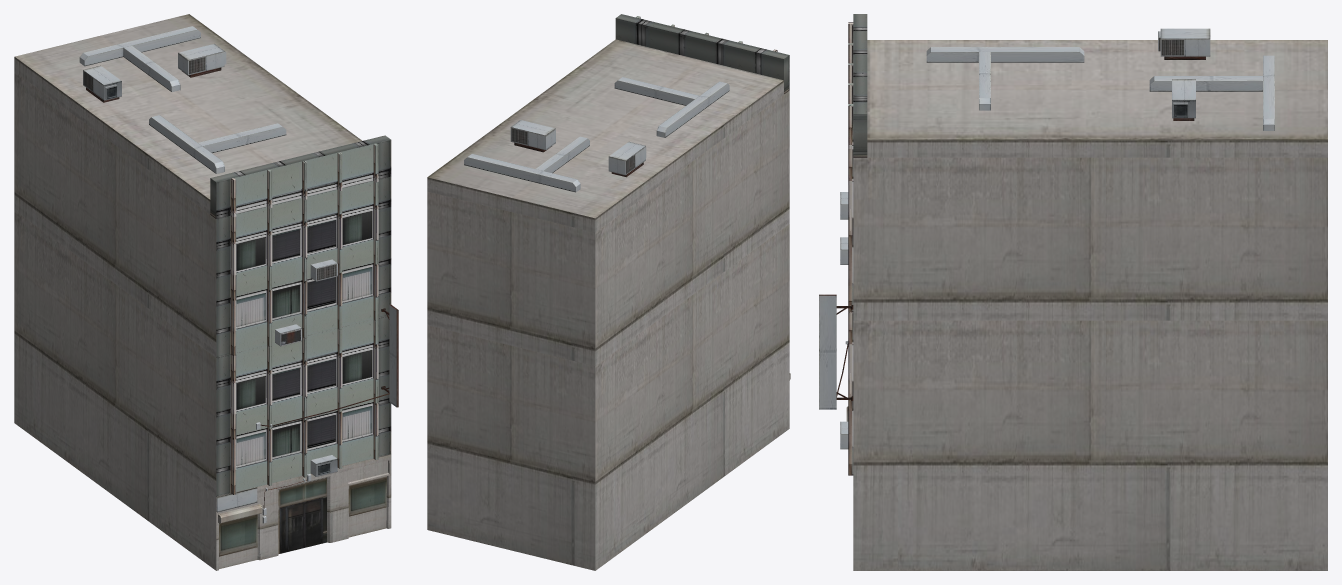
Rendered from BuildingNarrowOffice.obj.
The picture shows the model from 3 angles, left to right: view 1: azimuth 30°, elevation 25°; view 2: azimuth 150°, elevation 25°; view 3: azimuth 270°, elevation 25°; orthographic projection. The views are drawn at different scales.
Visible parts, largest first — view 1: Downtown_ModernOffice_2_Downtown_Facade_FLR_8_0, Downtown_ModernOffice_2_Downtown_Facade_FLR_6_0; view 2: Downtown_ModernOffice_2_Downtown_Facade_FLR_8_0, Downtown_ModernOffice_2_Downtown_Facade_FLR_6_0; view 3: Downtown_ModernOffice_2_Downtown_Facade_FLR_8_0, Downtown_ModernOffice_2_Downtown_Facade_FLR_6_0.
Boxes of the visible parts, x1,y1,x2,y2 form: Downtown_ModernOffice_2_Downtown_Facade_FLR_8_0: [14, 14, 398, 570]; Downtown_ModernOffice_2_Downtown_Facade_FLR_6_0: [210, 135, 391, 496]; Downtown_ModernOffice_2_Downtown_Facade_FLR_8_0: [427, 39, 790, 570]; Downtown_ModernOffice_2_Downtown_Facade_FLR_6_0: [615, 14, 789, 93]; Downtown_ModernOffice_2_Downtown_Facade_FLR_8_0: [819, 28, 1327, 570]; Downtown_ModernOffice_2_Downtown_Facade_FLR_6_0: [848, 14, 867, 475].
Bounding box in the file's own units: 10 × 21.24 × 21.45.
Materials: 2 (2 with a texture image).
